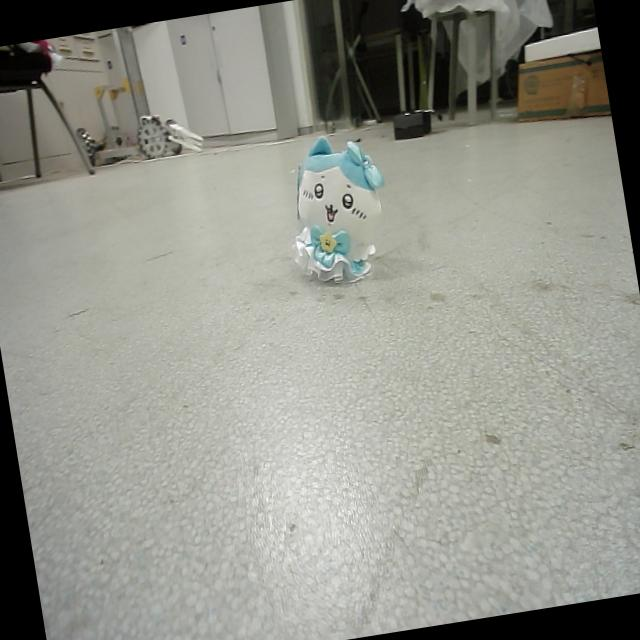xiaoba: (276, 128, 399, 299)
